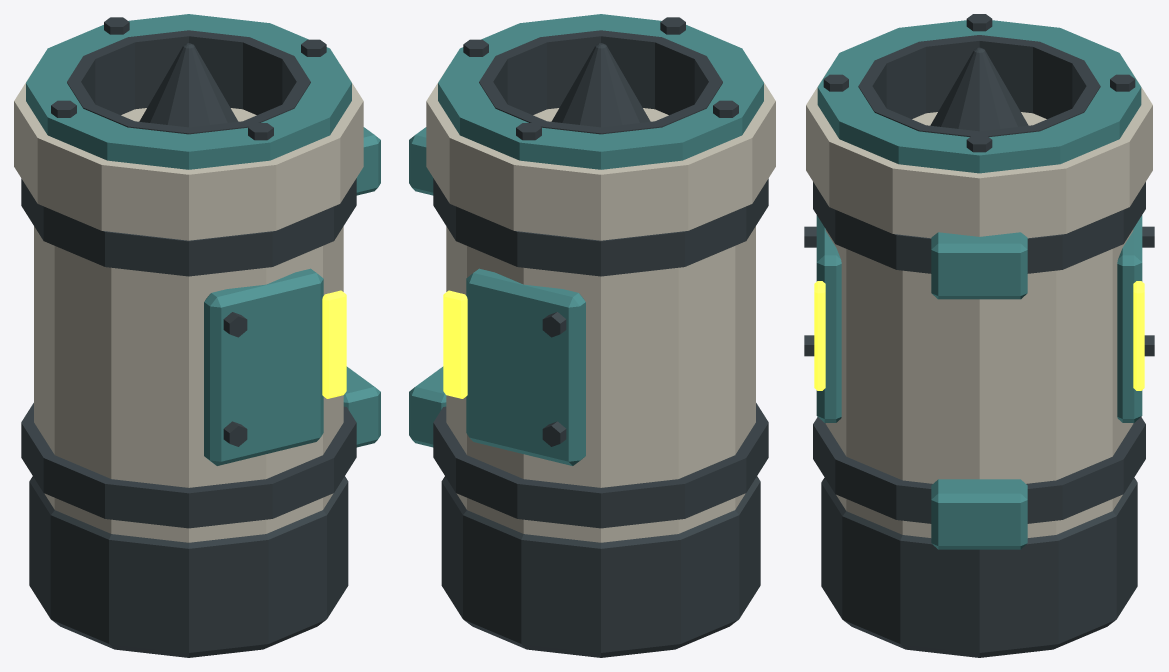
Rendered from SM_CP_TurretTube.fbx.
3 renders of one model, left to right at view 1: azimuth 30°, elevation 25°; view 2: azimuth 150°, elevation 25°; view 3: azimuth 270°, elevation 25°, orthographic.
Parts seen in each view (by area): view 1: SM_CP_TurretTube; view 2: SM_CP_TurretTube; view 3: SM_CP_TurretTube.
Part boxes in pixels (bbox=[...]): SM_CP_TurretTube: bbox=[14, 14, 380, 657]; SM_CP_TurretTube: bbox=[409, 14, 775, 657]; SM_CP_TurretTube: bbox=[804, 14, 1154, 657].
Bounding box in the file's own units: 0.3175 × 0.301 × 0.5185.
